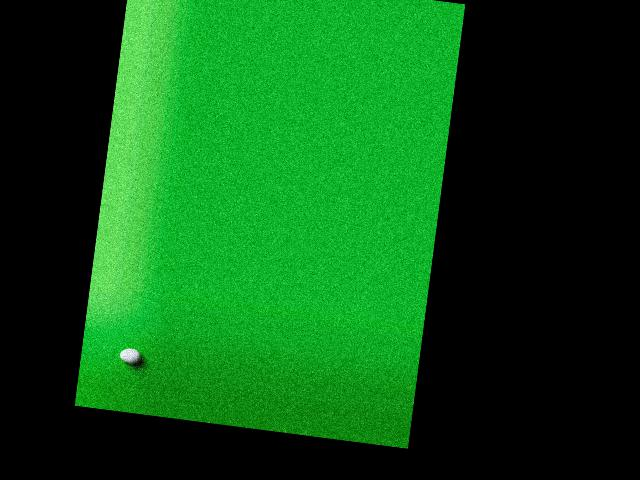egg: (119, 347, 141, 364)
